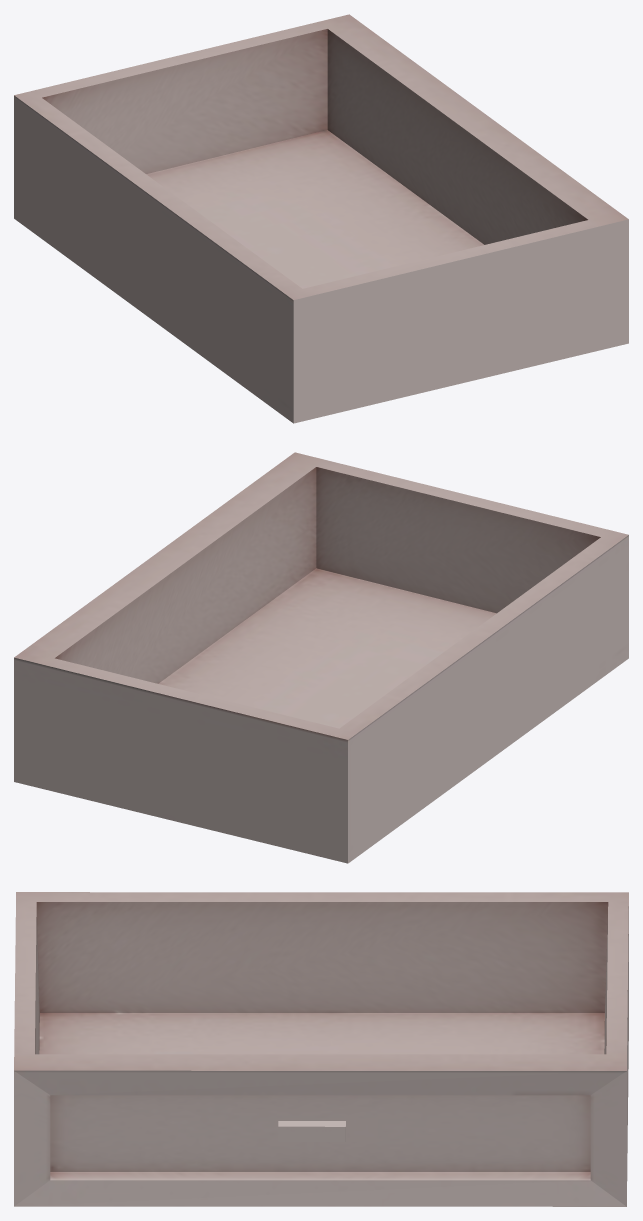
File: drawer3.glb
The picture shows the model from 3 angles, top to bottom: view 1: azimuth 30°, elevation 25°; view 2: azimuth 150°, elevation 25°; view 3: azimuth 270°, elevation 25°; orthographic projection. The views are drawn at different scales.
Parts seen in each view (by area): view 1: frl_apartment_lower_shelf_01_part_07; view 2: frl_apartment_lower_shelf_01_part_07; view 3: frl_apartment_lower_shelf_01_part_07.
Boxes of the visible parts, <box> form: frl_apartment_lower_shelf_01_part_07: <box>14,14,628,423</box>; frl_apartment_lower_shelf_01_part_07: <box>14,452,628,863</box>; frl_apartment_lower_shelf_01_part_07: <box>14,892,628,1206</box>.
Size of the model in its own units: 0.6112 by 0.2166 by 0.8883.
1 material, 1 textured.
